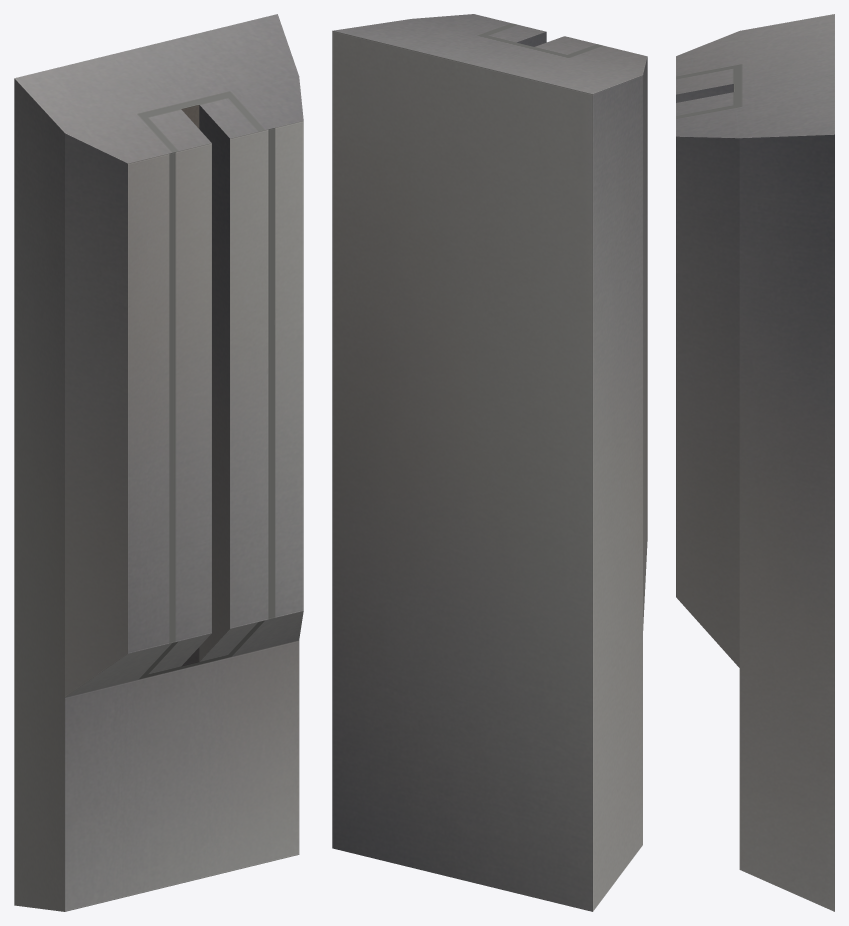
File: card_security_reader.glb
The picture shows the model from 3 angles, left to right: view 1: azimuth 30°, elevation 25°; view 2: azimuth 150°, elevation 25°; view 3: azimuth 270°, elevation 25°; orthographic projection. The views are drawn at different scales.
Parts seen in each view (by area): view 1: Plano; view 2: Plano; view 3: Plano.
Part boxes in pixels (left/top/right/bottom): Plano: left=14, top=14, right=303, bottom=911; Plano: left=332, top=14, right=647, bottom=911; Plano: left=676, top=14, right=834, bottom=911.
Bounding box in the file's own units: 0.009 × 0.027 × 0.005.
1 material, 1 textured.
